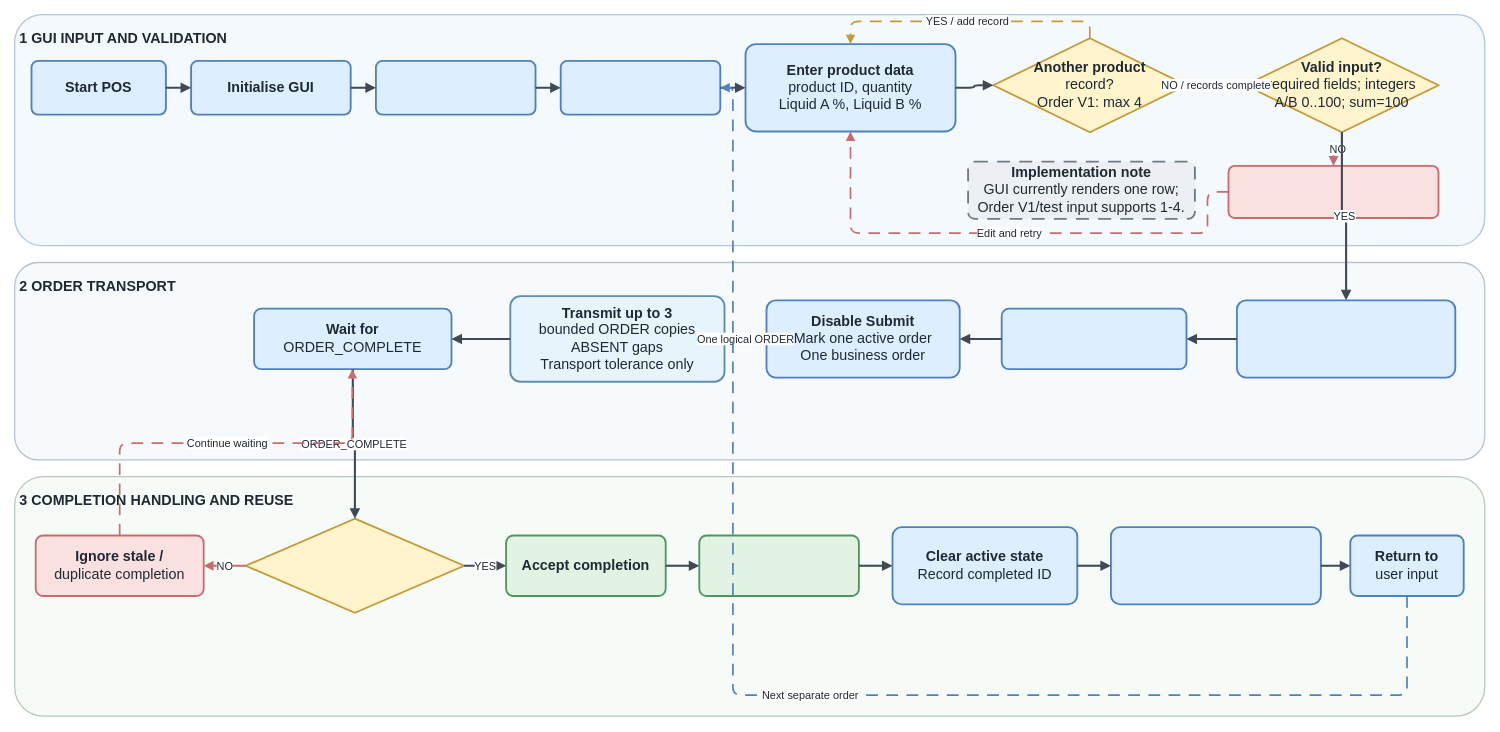
Some shapes in this 1500 by 732 pixel diagram are drawn without their labels. Each missing label, with the centre of its shape:
"Build ORDER payload orderId|productCount| productId,A%,B%,quantity;..." belongs at [1346,338].
"Completion valid and matches active Order ID?" belongs at [354,565].
"Display result" belongs at [778,565].
"Generate next Order ID" belongs at [455,87].
"Generate next Order ID Enable Submit" belongs at [1215,565].
"Show validation error Return to order editing" belongs at [1333,191].
"Submit ORDER SystemJ parses again" belongs at [1093,338].
"Wait for user input" belongs at [640,87].
